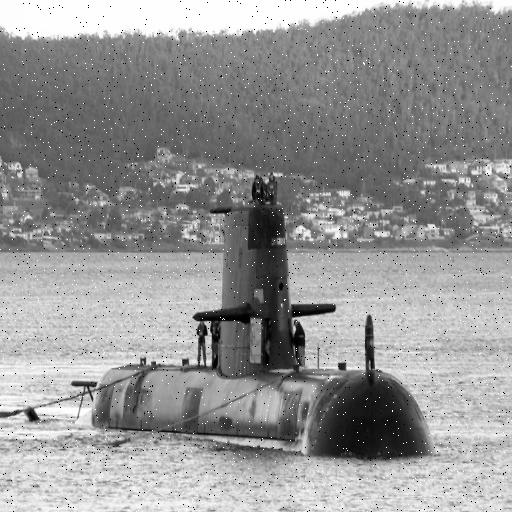submarine: (71, 209, 444, 463)
